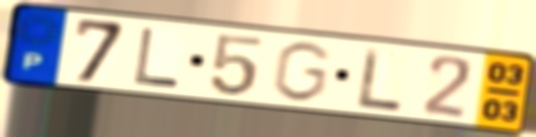2: (418, 54, 475, 121)
5: (207, 31, 267, 98)
7: (71, 15, 127, 85)
G: (268, 39, 335, 104)
L: (132, 25, 184, 90), (356, 45, 405, 113)
